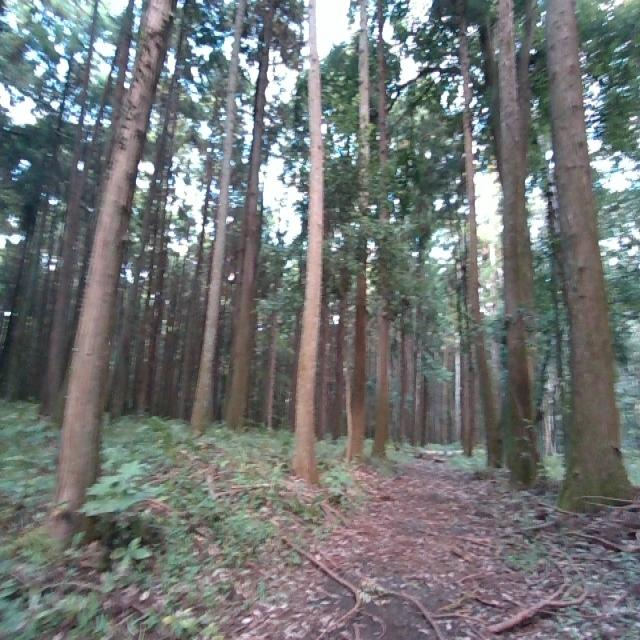tree: (45, 0, 178, 533), (534, 0, 629, 507), (471, 0, 540, 484), (453, 0, 504, 468), (192, 0, 245, 433), (227, 0, 277, 443), (289, 0, 332, 480), (336, 0, 374, 464), (370, 0, 400, 472)
